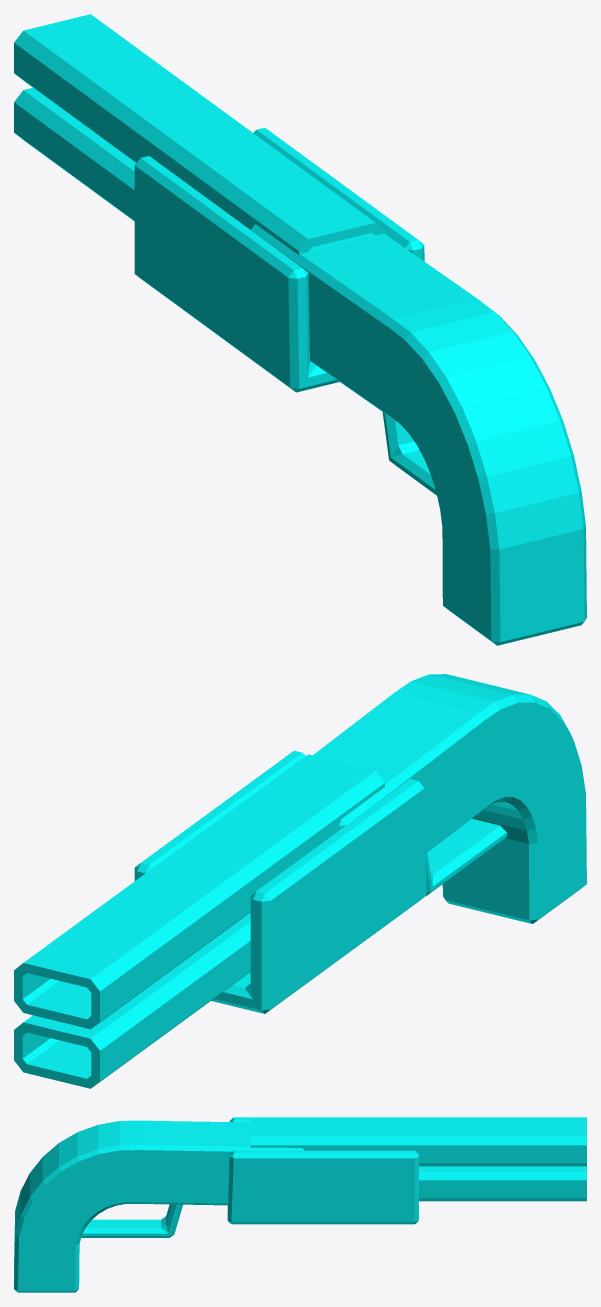
The model's file is escopeta.fbx.
3 views of the same model, one above another, from view 1: azimuth 30°, elevation 25°; view 2: azimuth 150°, elevation 25°; view 3: azimuth 270°, elevation 25° (orthographic). The views are drawn at different scales.
Visible parts, largest first — view 1: Escopeta; view 2: Escopeta; view 3: Escopeta.
Boxes of the visible parts, left/top/right/bottom form: Escopeta: left=14, top=14, right=586, bottom=645; Escopeta: left=14, top=674, right=586, bottom=1088; Escopeta: left=14, top=1117, right=586, bottom=1292.
Size of the model in its own units: 72.22 by 132 by 447.
